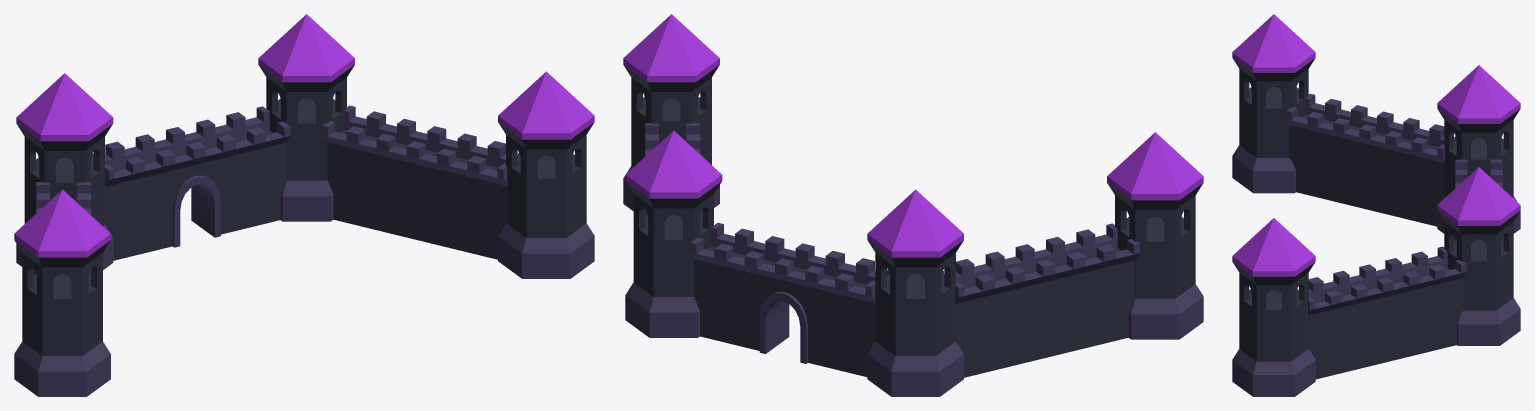
The model's file is Castle.obj.
3 views of the same model, side by side, from view 1: azimuth 30°, elevation 25°; view 2: azimuth 150°, elevation 25°; view 3: azimuth 270°, elevation 25° (orthographic). The views are drawn at different scales.
Visible parts, largest first — view 1: mergedBlocks; view 2: mergedBlocks; view 3: mergedBlocks.
Boxes of the visible parts, x1,y1,x2,y2 form: mergedBlocks: (14, 14, 594, 396); mergedBlocks: (623, 14, 1203, 396); mergedBlocks: (1232, 14, 1520, 396).
Size of the model in its own units: 9.2 by 3 by 4.79.
